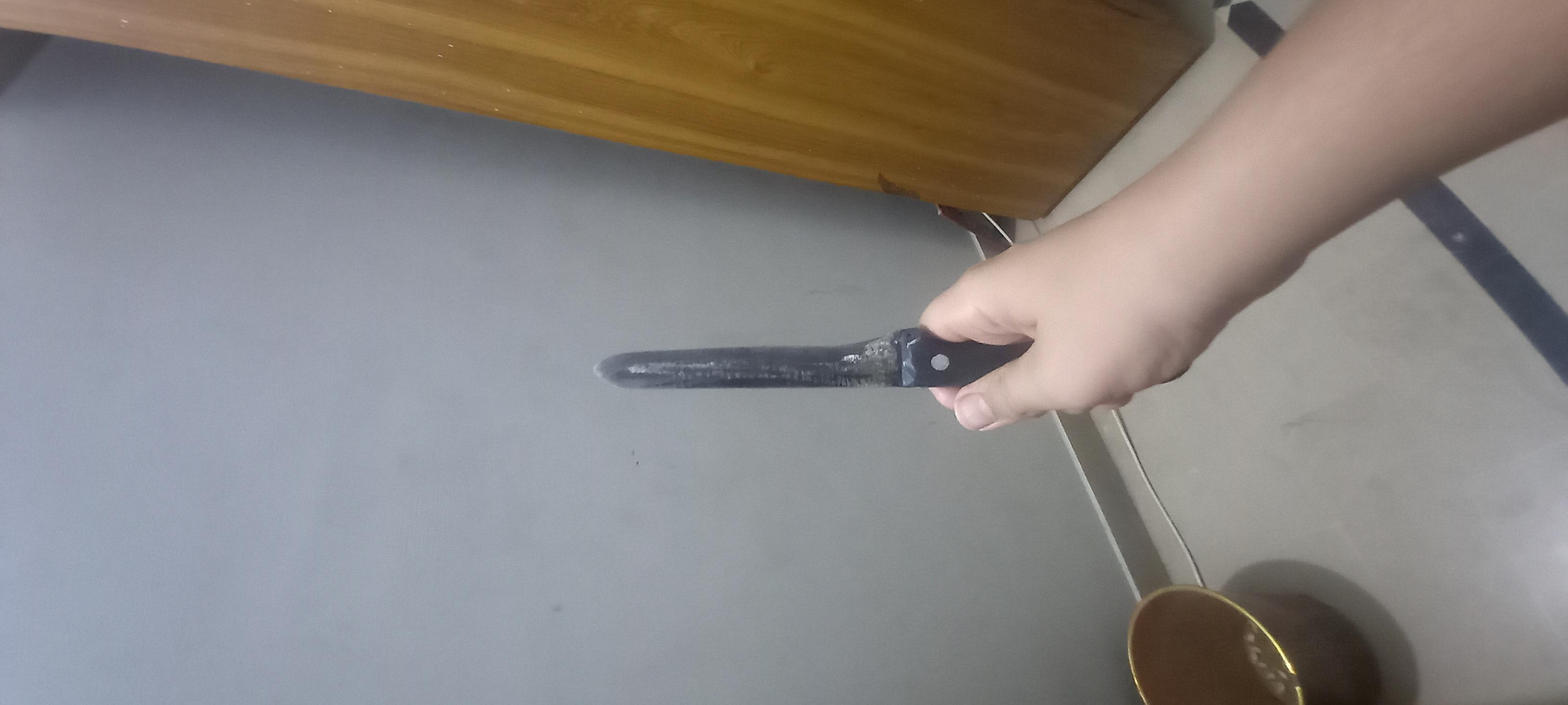knives: (665, 263, 910, 542)
